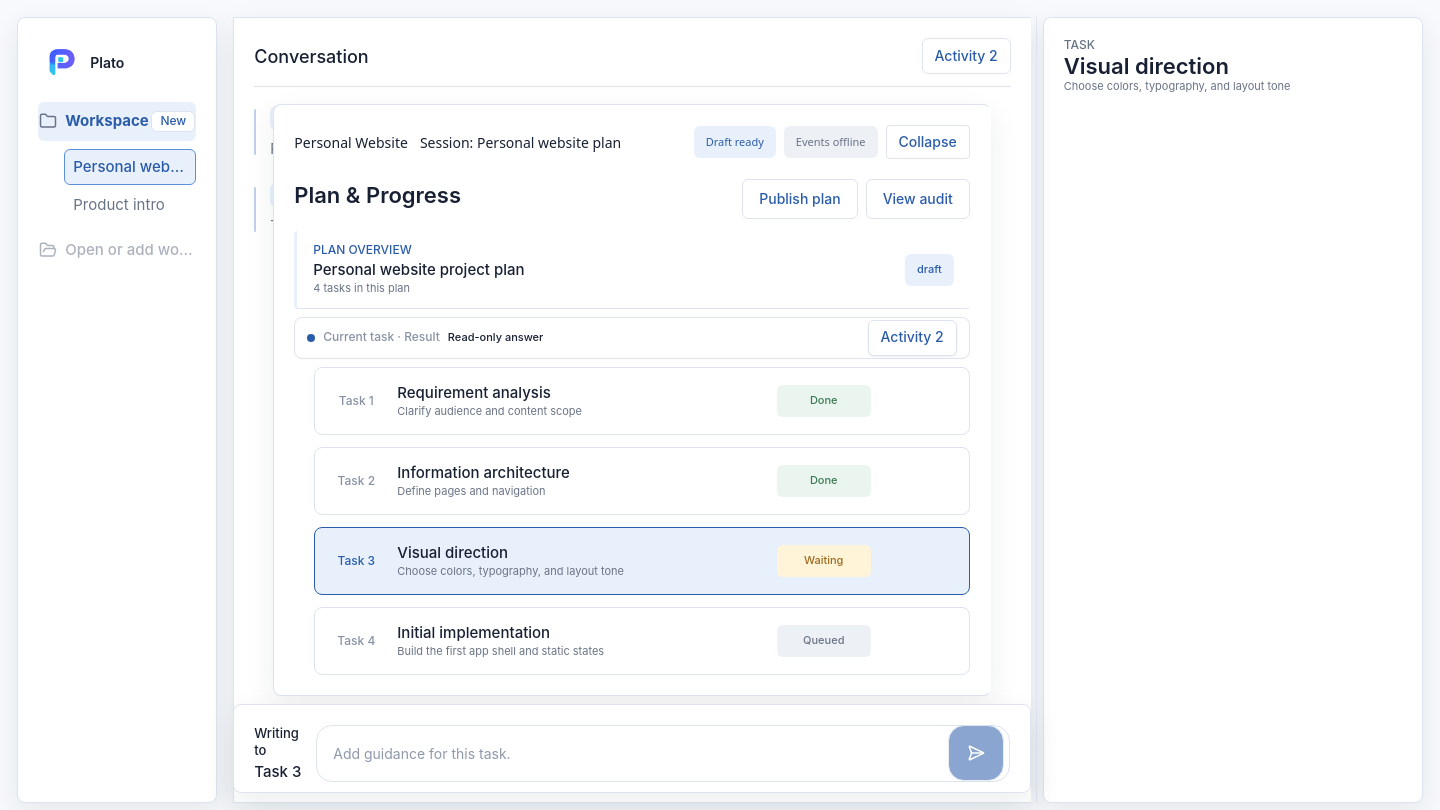
Scenario: MainPageWorkbench layout › collapses to Conversation and can reopen Plan & Progress
The width and height of the screenshot is (1440, 810).
Click the button "Collapse" at (928, 142), box x1=886 y1=125 x2=970 y2=159
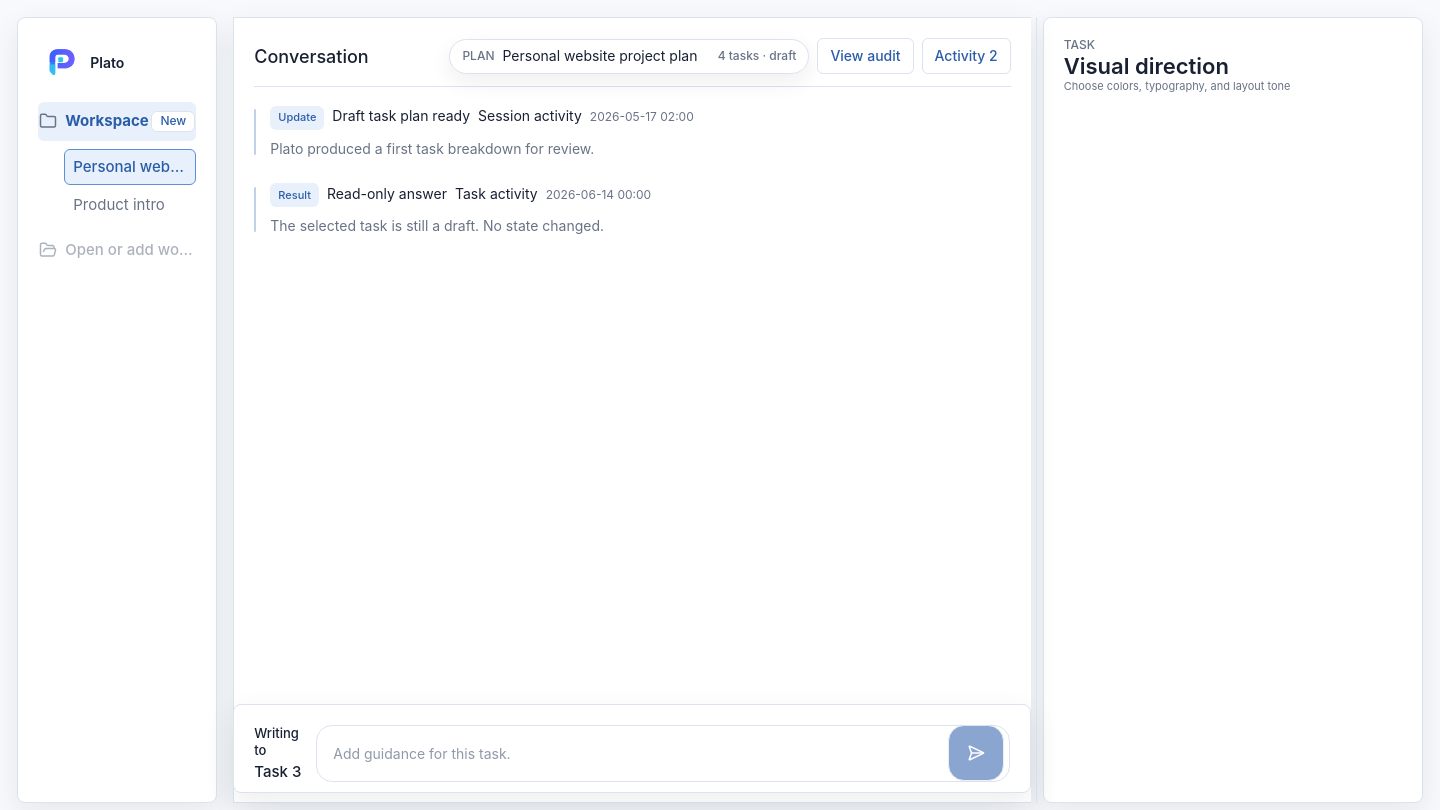
Expected: the text "Personal website project plan" is shown, x1=502 y1=48 x2=710 y2=65
Now the button with aria-label "Open Plan & Progress: Personal website project plan" is shown
Click the button with aria-label "Open Plan & Progress: Personal website project plan" at (629, 56), box x1=449 y1=39 x2=809 y2=74
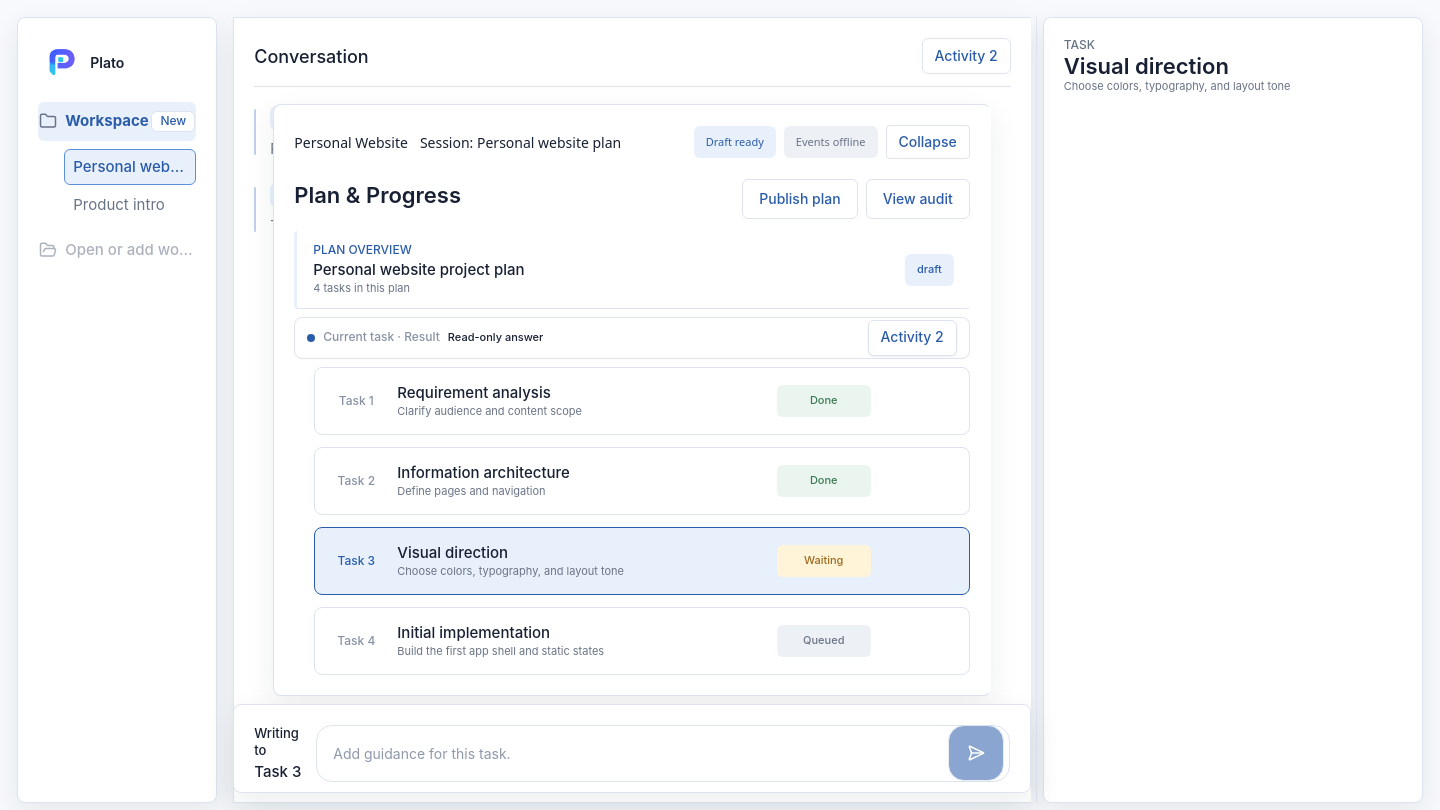
Now the element named "Plan & Progress workspace" is shown, box x1=273 y1=104 x2=991 y2=696
Now the text "Requirement analysis" is shown, box x1=397 y1=383 x2=551 y2=402
